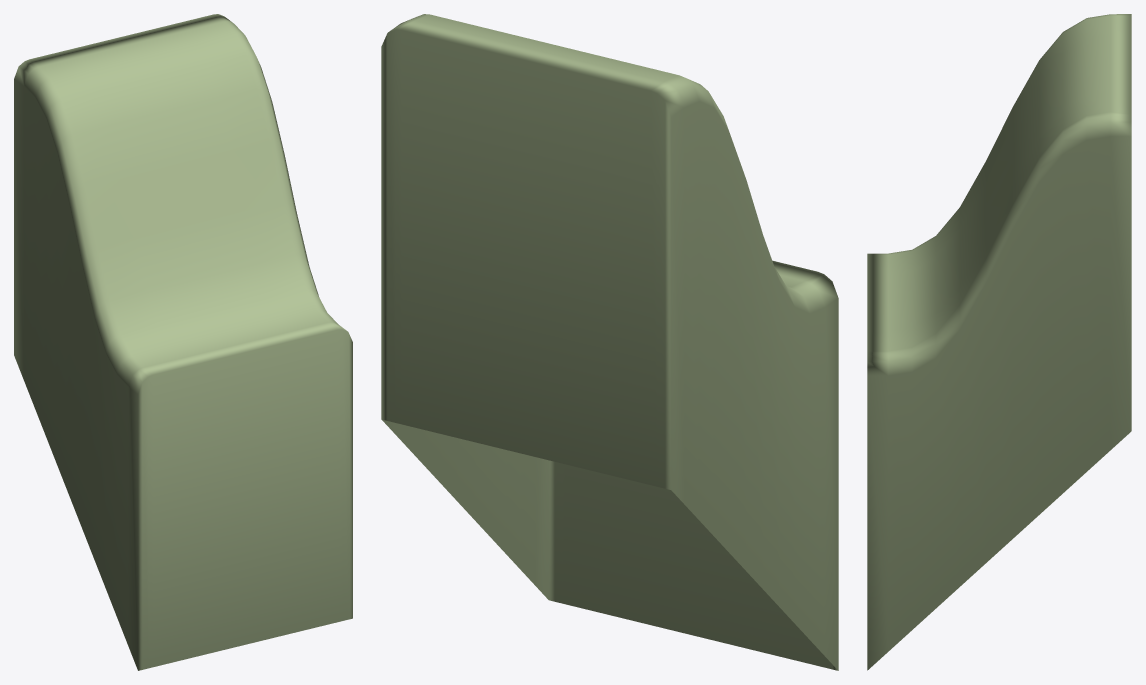
The model's file is ground-ramp-lr-20.glb.
The picture shows the model from 3 angles, left to right: view 1: azimuth 30°, elevation 25°; view 2: azimuth 150°, elevation 25°; view 3: azimuth 270°, elevation 25°; orthographic projection. The views are drawn at different scales.
Visible parts, largest first — view 1: ground-ramp-lr-20; view 2: ground-ramp-lr-20; view 3: ground-ramp-lr-20.
Boxes of the visible parts, <box> form: ground-ramp-lr-20: <box>14,14,352,670</box>; ground-ramp-lr-20: <box>381,14,838,670</box>; ground-ramp-lr-20: <box>867,14,1131,670</box>.
Bounding box in the file's own units: 1 × 2.3 × 1.
